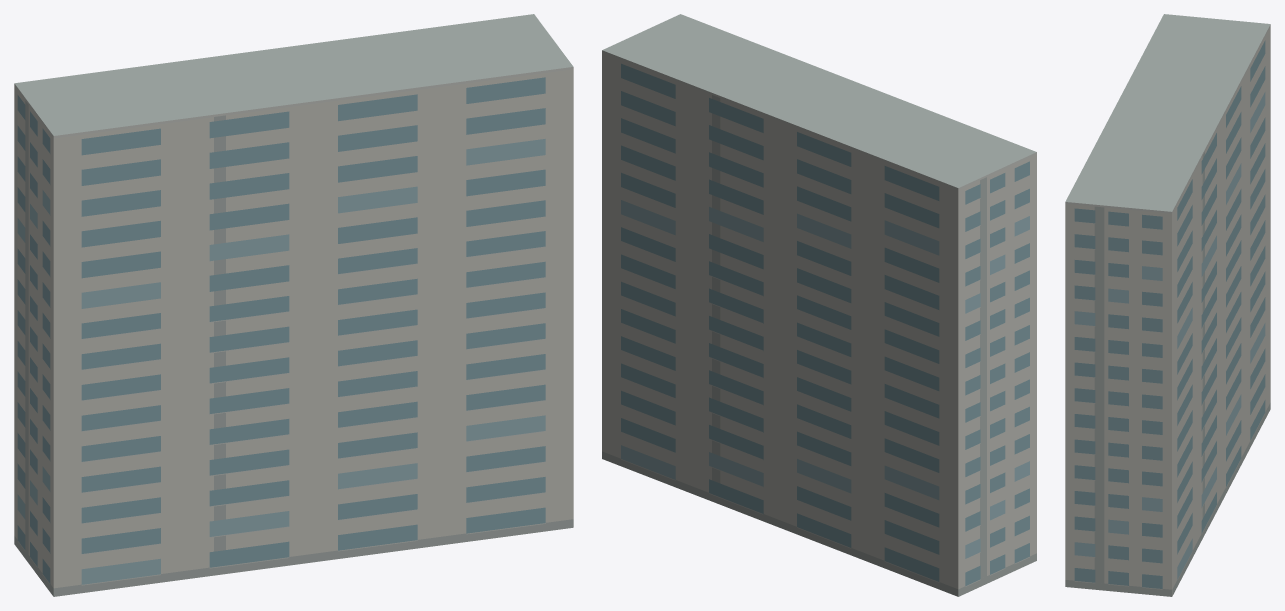
The model's file is residential-e4883785-af5d-4b5f-a1da-2d9da618c34b.glb.
3 renders of one model, left to right at view 1: azimuth 30°, elevation 25°; view 2: azimuth 150°, elevation 25°; view 3: azimuth 270°, elevation 25°, orthographic. The views are drawn at different scales.
Visible parts, largest first — view 1: residential-e4883785-af5d-4b5f-a1da-2d9da618c34b.tmp; view 2: residential-e4883785-af5d-4b5f-a1da-2d9da618c34b.tmp; view 3: residential-e4883785-af5d-4b5f-a1da-2d9da618c34b.tmp.
Boxes of the visible parts, box(x1,y1,x2,y2) form: residential-e4883785-af5d-4b5f-a1da-2d9da618c34b.tmp: box(14, 14, 573, 596); residential-e4883785-af5d-4b5f-a1da-2d9da618c34b.tmp: box(602, 14, 1036, 596); residential-e4883785-af5d-4b5f-a1da-2d9da618c34b.tmp: box(1065, 14, 1270, 596).
Bounding box in the file's own units: 54.01 × 49 × 23.7.
